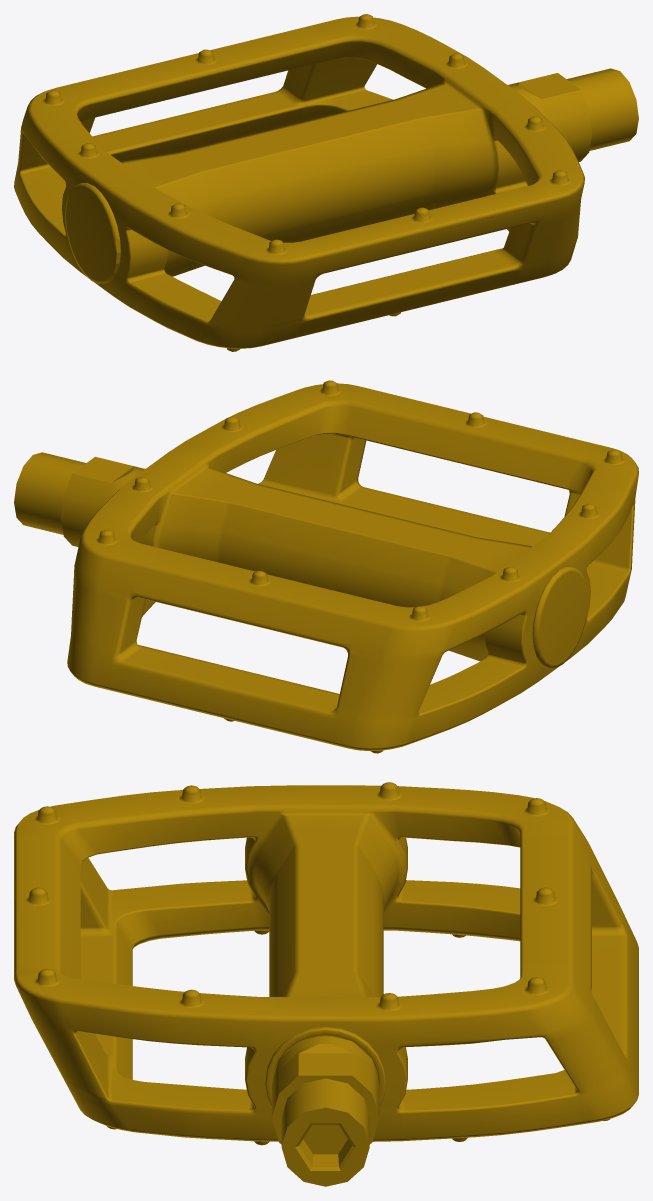
The model's file is BMX_Pedal_Saturday_Morning.fbx.
3 renders of one model, top to bottom at view 1: azimuth 30°, elevation 25°; view 2: azimuth 150°, elevation 25°; view 3: azimuth 270°, elevation 25°, orthographic. The views are drawn at different scales.
Visible parts, largest first — view 1: BMX_Pedal_Saturday_Morning, Axle; view 2: BMX_Pedal_Saturday_Morning, Axle; view 3: BMX_Pedal_Saturday_Morning, Axle.
Part boxes in pixels (box(x1,y1,x2,y2)): BMX_Pedal_Saturday_Morning: box(14, 14, 584, 351); Axle: box(508, 68, 638, 161); BMX_Pedal_Saturday_Morning: box(67, 380, 638, 753); Axle: box(14, 452, 144, 546); BMX_Pedal_Saturday_Morning: box(14, 782, 638, 1145); Axle: box(271, 1036, 379, 1186).
Bounding box in the file's own units: 11.6 × 2.68 × 10.09.
